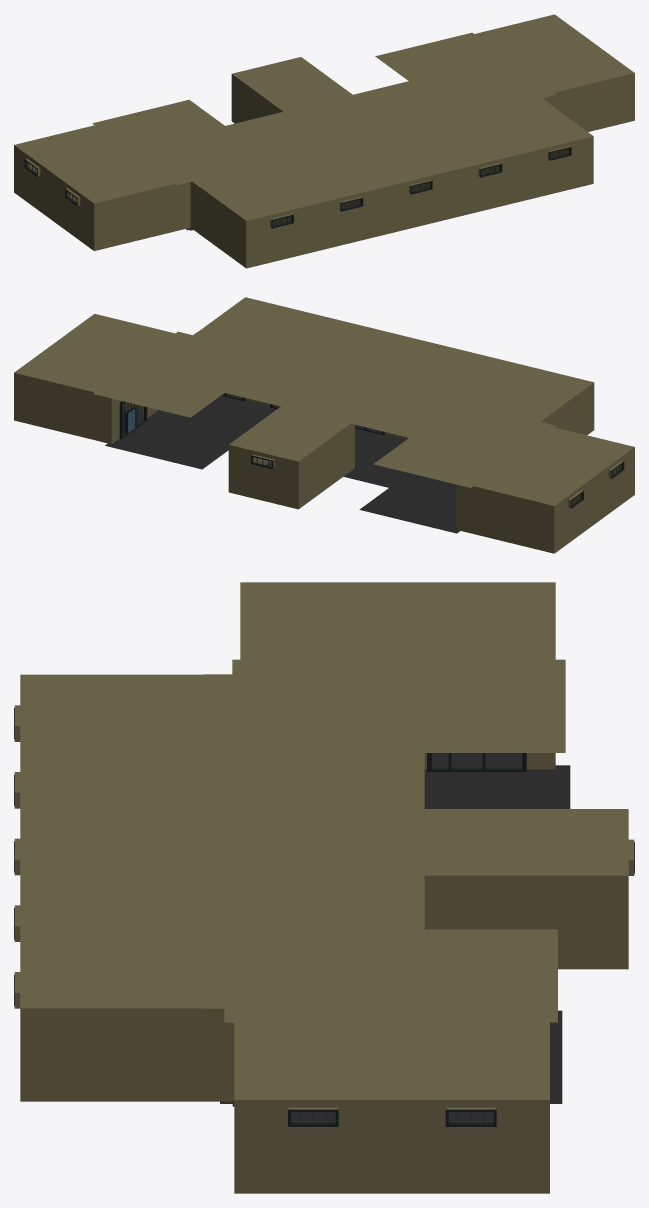
Rendered from cells.fbx.
3 renders of one model, top to bottom at view 1: azimuth 30°, elevation 25°; view 2: azimuth 150°, elevation 25°; view 3: azimuth 270°, elevation 25°, orthographic. The views are drawn at different scales.
Visible parts, largest first — view 1: wall051, wall077, wall089, wall079, wall068, wall014, wall042, wall082, wall074, wall037, wall043, wall031 (+12 smaller); view 2: wall051, wall077, Wall010, wall086, wall065, wall089, wall082, wall068, wall043, wall031, wall014, wall087 (+13 smaller); view 3: wall051, wall077, wall026, wall089, wall043, wall014, wall068, wall031, wall082, wall074, wall087, wall037 (+9 smaller).
Part boxes in pixels (box(x1,y1,x2,y2)): wall051: box(144, 61, 546, 186); wall077: box(375, 32, 556, 114); wall089: box(92, 99, 269, 185); wall079: box(94, 182, 190, 250); wall068: box(458, 14, 594, 66); wall014: box(232, 57, 356, 114); wall042: box(263, 146, 384, 203); wall082: box(54, 151, 189, 203); wall074: box(499, 44, 634, 92); wall037: box(332, 132, 454, 186); wall043: box(468, 98, 592, 152); wall031: box(408, 112, 523, 169); wall051: box(146, 331, 547, 457); wall077: box(93, 331, 273, 417); Wall010: box(136, 397, 456, 503); wall086: box(456, 485, 554, 553); wall065: box(14, 373, 111, 444); wall089: box(373, 402, 555, 487); wall082: box(499, 423, 634, 476); wall068: box(14, 343, 151, 396); wall043: box(194, 297, 314, 354); wall031: box(259, 314, 384, 370); wall014: box(229, 405, 350, 461); wall087: box(458, 453, 594, 505); wall051: box(203, 674, 424, 1008); wall077: box(224, 929, 557, 1022); wall026: box(20, 1008, 234, 1101); wall089: box(232, 659, 565, 752); wall043: box(20, 941, 241, 1008); wall014: box(407, 809, 628, 875); wall068: box(392, 1006, 549, 1099); wall031: box(20, 875, 241, 941); wall082: box(240, 582, 397, 675); wall074: box(234, 1006, 392, 1099); wall087: box(398, 582, 555, 675); wall037: box(20, 808, 241, 874).
Bounding box in the file's own units: 785 × 65.42 × 393.
